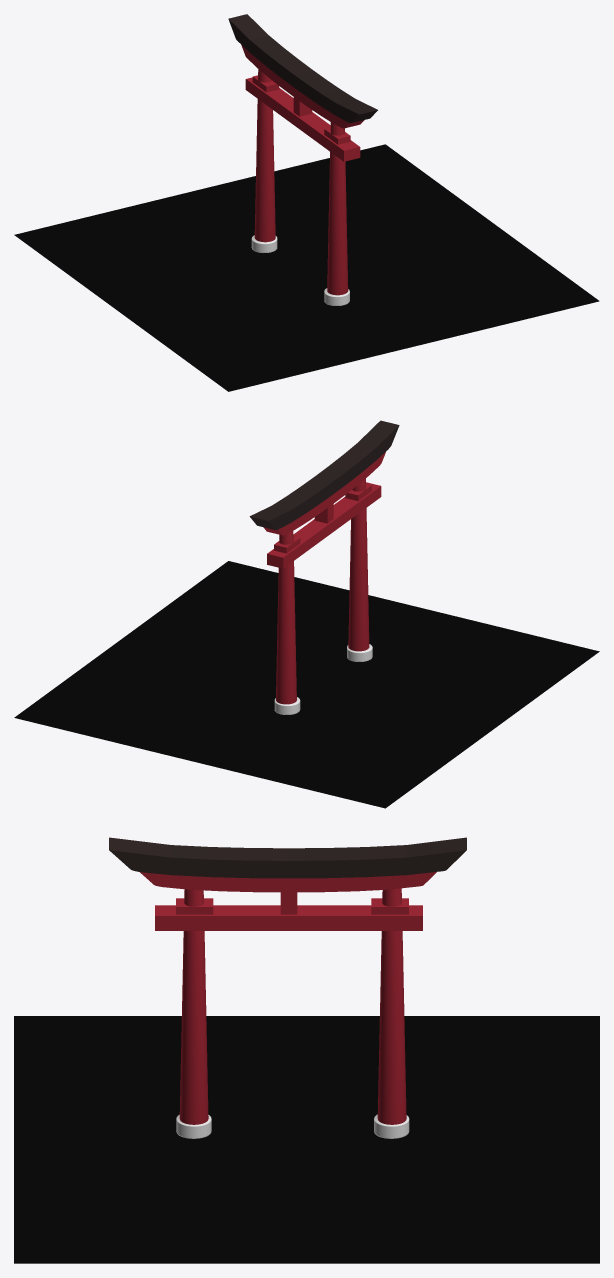
The model's file is uploads_files_3054669_RED+GATE.fbx.
3 views of the same model, one above another, from view 1: azimuth 30°, elevation 25°; view 2: azimuth 150°, elevation 25°; view 3: azimuth 270°, elevation 25° (orthographic). The views are drawn at different scales.
Parts seen in each view (by area): view 1: Plane, Cube.002, Cylinder.002, Cylinder.001, Cube, Cube.006; view 2: Plane, Cube.002, Cylinder.001, Cylinder.002, Cube, Cube.006; view 3: Plane, Cube.002, Cube, Cylinder.001, Cylinder.002, Cube.006, Cylinder, Cylinder.003.
Part boxes in pixels (x1,y1,x2,y2): Plane: (14, 144, 599, 391); Cube.002: (228, 14, 377, 123); Cylinder.002: (327, 122, 348, 295); Cylinder.001: (254, 69, 275, 242); Cube: (245, 77, 360, 161); Cube.006: (241, 44, 364, 128); Plane: (14, 561, 599, 808); Cube.002: (249, 420, 399, 530); Cylinder.001: (276, 531, 296, 704); Cylinder.002: (348, 478, 369, 651); Cube: (267, 482, 381, 568); Cube.006: (263, 452, 385, 535); Plane: (14, 1016, 599, 1263); Cube.002: (109, 837, 466, 878); Cube: (155, 905, 422, 930); Cylinder.001: (377, 888, 406, 1124); Cylinder.002: (179, 889, 208, 1124); Cube.006: (140, 872, 436, 892); Cylinder: (176, 1114, 211, 1138); Cylinder.003: (374, 1114, 409, 1138).
Bounding box in the file's own units: 1000 × 544 × 1000.
